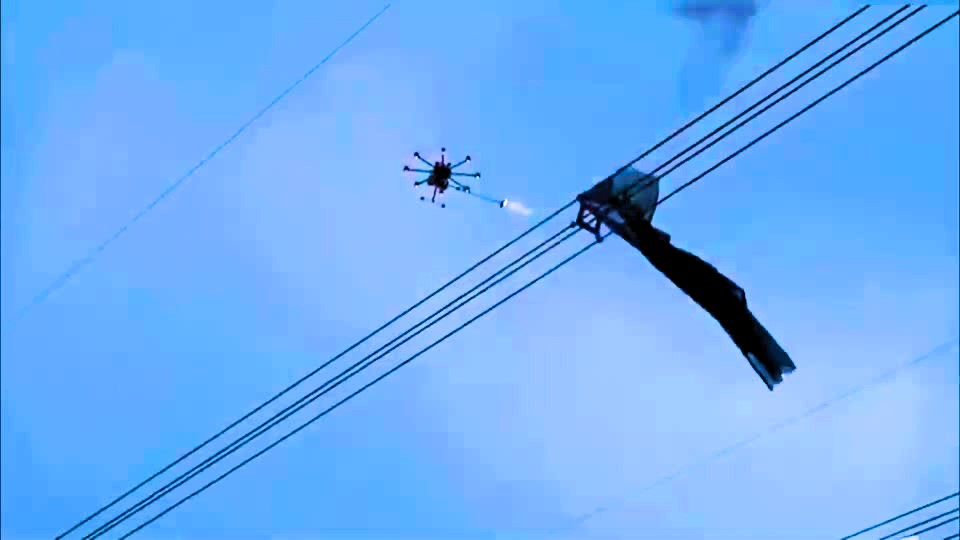wire foreign body: (581, 161, 810, 397)
